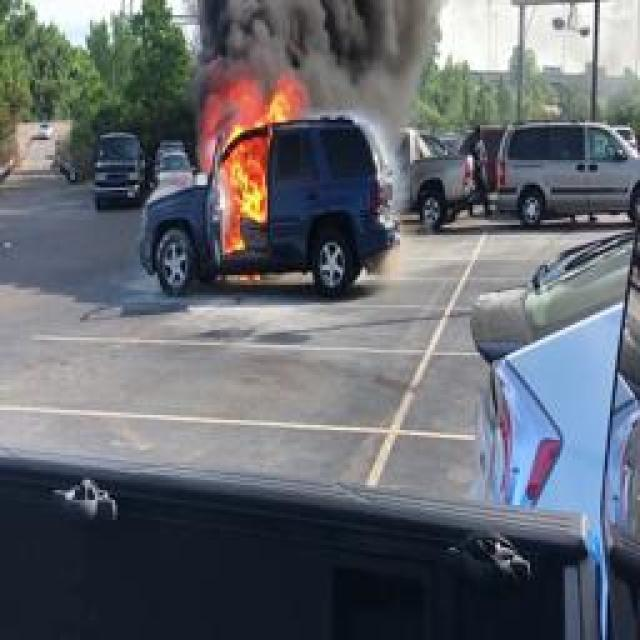Fire: (192, 73, 324, 148), (218, 144, 266, 258), (270, 73, 306, 124)
Smoke: (146, 0, 462, 69)
